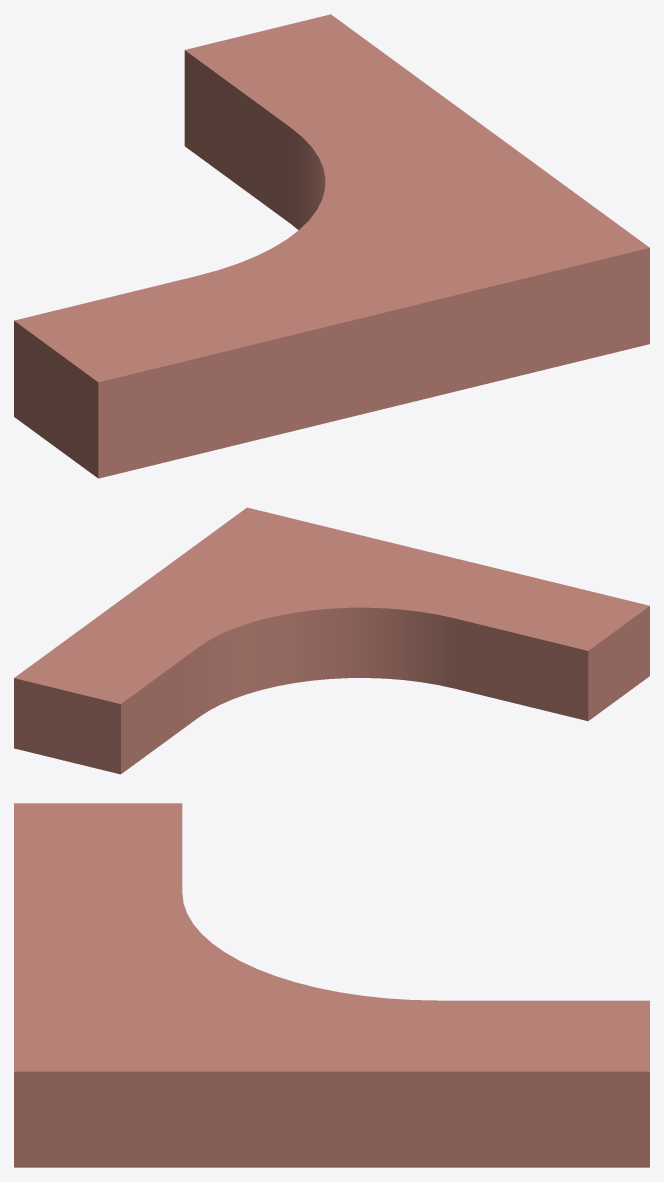
File: RoundCorner30x30x5.fbx
3 renders of one model, top to bottom at view 1: azimuth 30°, elevation 25°; view 2: azimuth 150°, elevation 25°; view 3: azimuth 270°, elevation 25°, orthographic. The views are drawn at different scales.
Visible parts, largest first — view 1: RoundCorner30x30x5.001; view 2: RoundCorner30x30x5.001; view 3: RoundCorner30x30x5.001.
Part boxes in pixels (x1,y1,x2,y2): RoundCorner30x30x5.001: (14, 14, 649, 478); RoundCorner30x30x5.001: (14, 507, 649, 774); RoundCorner30x30x5.001: (14, 803, 649, 1167).
Bounding box in the file's own units: 2998 × 500 × 3004.
